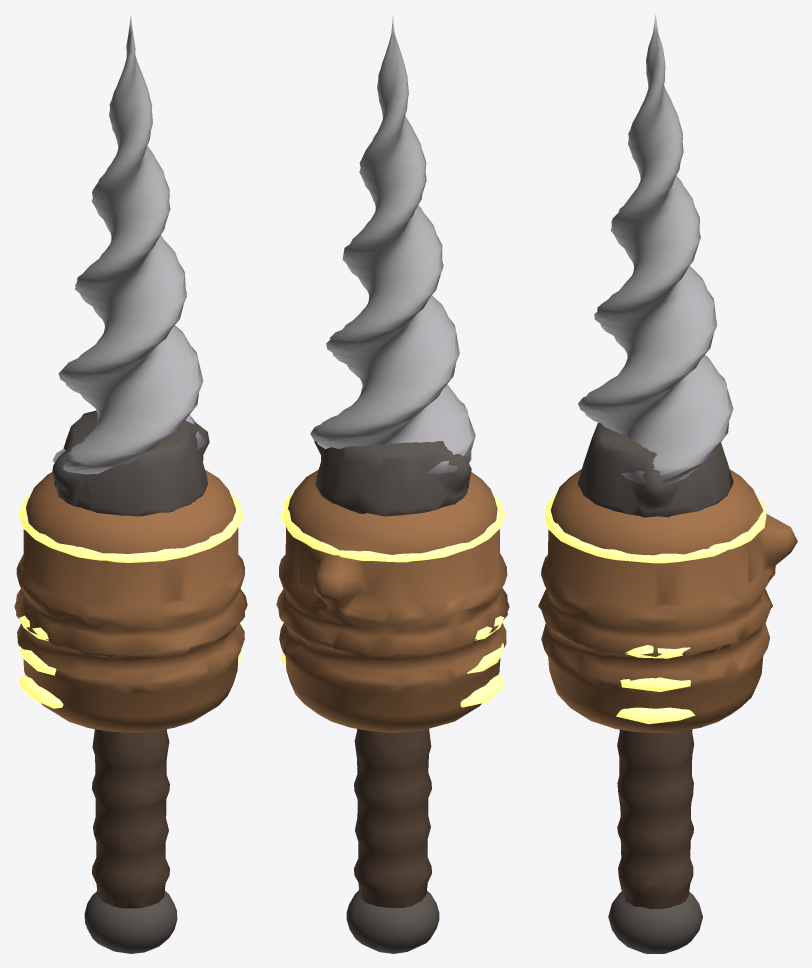
File: burrower.glb
3 views of the same model, side by side, from view 1: azimuth 30°, elevation 25°; view 2: azimuth 150°, elevation 25°; view 3: azimuth 270°, elevation 25° (orthographic).
Visible parts, largest first — view 1: F_W_Drill_Body, F_W_DrillBit, F_W_Drill_Iron, F_W_Drill_Grip, F_W_Drill_Glow; view 2: F_W_Drill_Body, F_W_DrillBit, F_W_Drill_Iron, F_W_Drill_Grip, F_W_Drill_Glow; view 3: F_W_Drill_Body, F_W_DrillBit, F_W_Drill_Grip, F_W_Drill_Iron, F_W_Drill_Glow.
Part boxes in pixels (<box>): F_W_Drill_Body: <box>14,470,247,732</box>; F_W_DrillBit: <box>52,15,208,474</box>; F_W_Drill_Iron: <box>52,410,209,953</box>; F_W_Drill_Grip: <box>92,729,169,908</box>; F_W_Drill_Glow: <box>18,491,243,708</box>; F_W_Drill_Body: <box>276,469,509,732</box>; F_W_DrillBit: <box>310,16,475,473</box>; F_W_Drill_Iron: <box>314,440,471,953</box>; F_W_Drill_Grip: <box>354,729,431,908</box>; F_W_Drill_Glow: <box>280,493,505,707</box>; F_W_Drill_Body: <box>538,469,797,732</box>; F_W_DrillBit: <box>578,15,733,484</box>; F_W_Drill_Grip: <box>617,729,694,909</box>; F_W_Drill_Iron: <box>577,422,733,953</box>; F_W_Drill_Glow: <box>545,492,766,723</box>.
Size of the model in its own units: 0.3283 by 1.44 by 0.3625.
